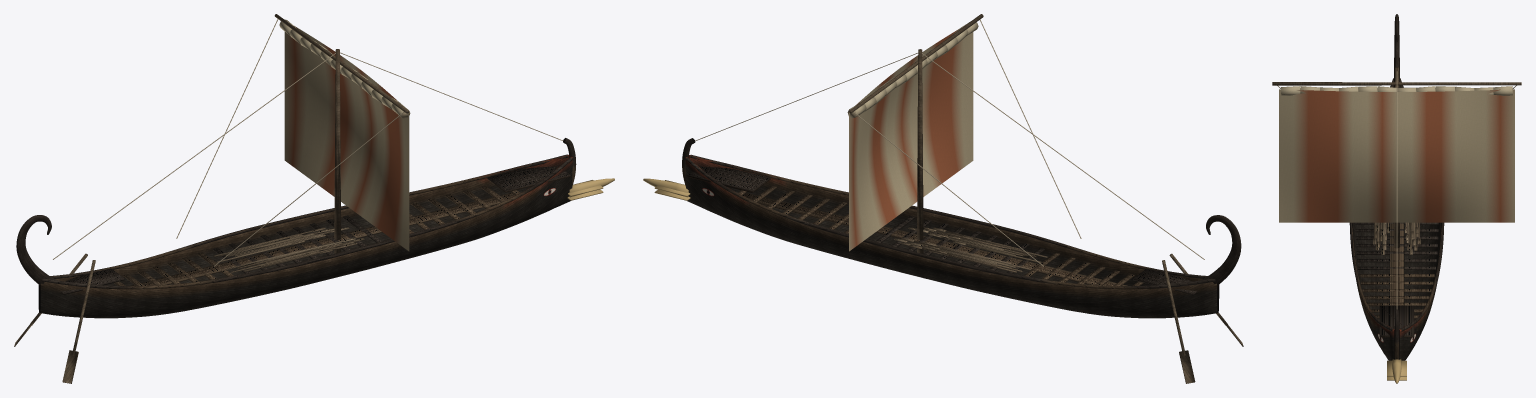
The model's file is galley.glb.
3 views of the same model, side by side, from view 1: azimuth 30°, elevation 25°; view 2: azimuth 150°, elevation 25°; view 3: azimuth 270°, elevation 25° (orthographic). The views are drawn at different scales.
Parts seen in each view (by area): view 1: galley, galley_sail_set, galley_sail_furled, galley_steer; view 2: galley, galley_sail_set, galley_sail_furled, galley_steer; view 3: galley_sail_set, galley, galley_sail_furled.
Part boxes in pixels (x1,y1,x2,y2): galley: (16, 14, 614, 318); galley_sail_set: (284, 26, 409, 251); galley_sail_furled: (279, 19, 410, 118); galley_steer: (14, 253, 95, 383); galley: (643, 14, 1241, 318); galley_sail_set: (849, 29, 973, 251); galley_sail_furled: (847, 22, 978, 118); galley_steer: (1162, 253, 1243, 383); galley_sail_set: (1279, 89, 1514, 222); galley: (1272, 14, 1521, 383); galley_sail_furled: (1281, 86, 1512, 96).
Size of the model in its own units: 29.39 by 11.36 by 11.2.
Materials: 5 (3 with a texture image).
